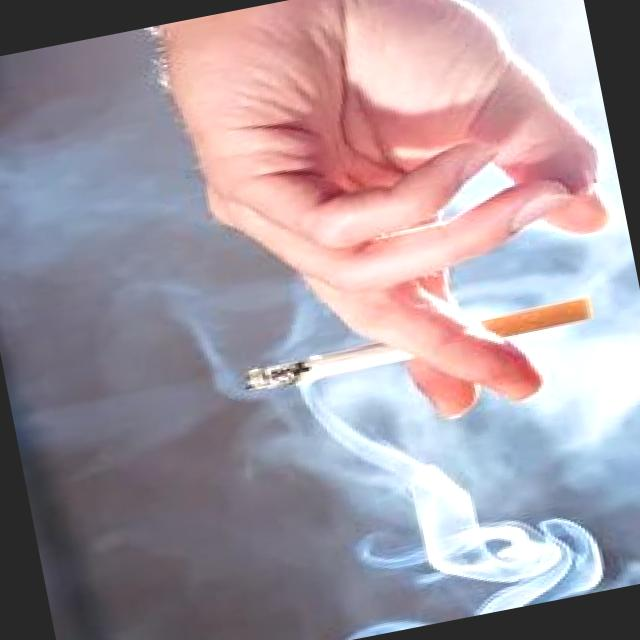cigarette: (231, 289, 600, 399)
